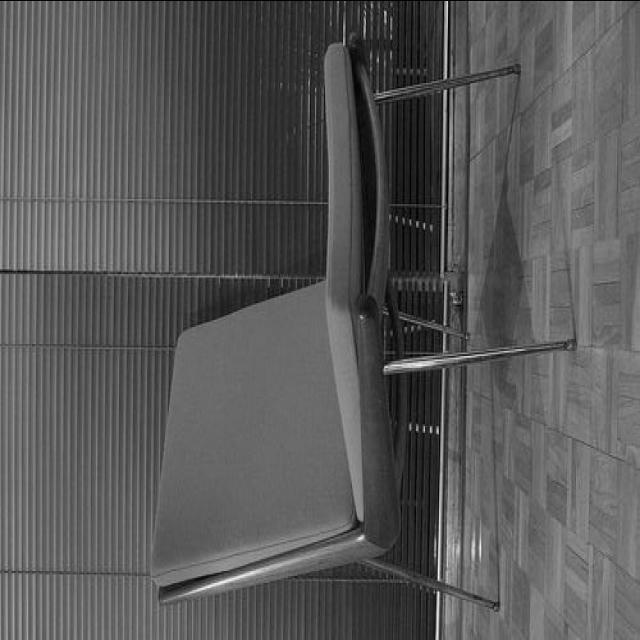chair: (146, 42, 578, 614)
